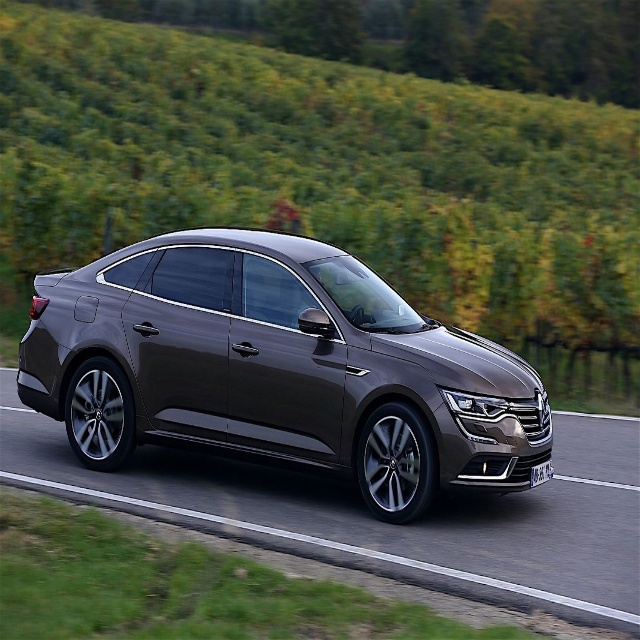Car: (15, 226, 555, 525)
